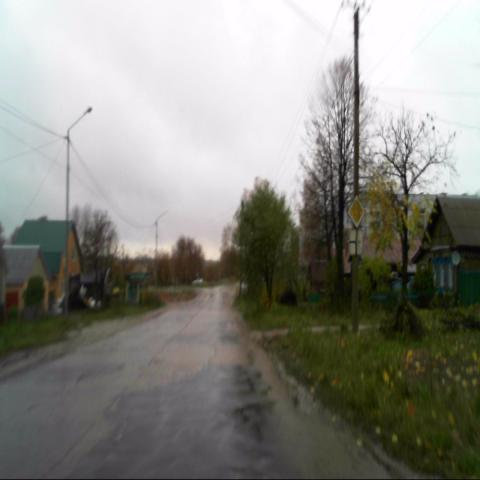8_13: (349, 231, 363, 255)
